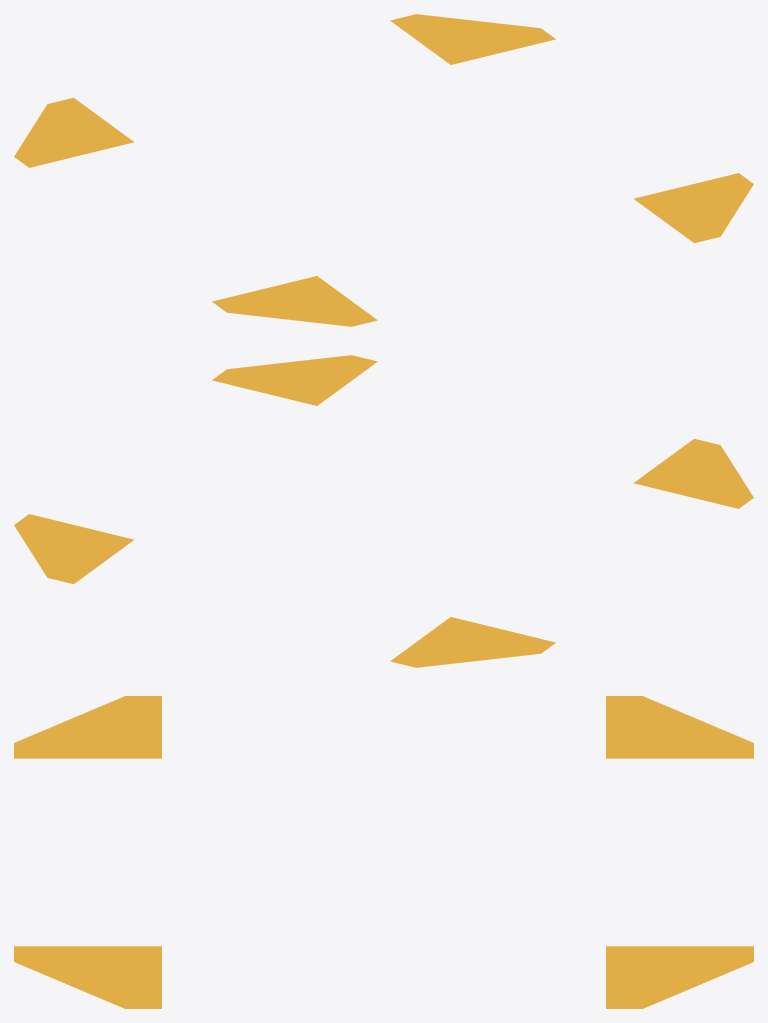
The model's file is kenney-prototype-indicator-square-e.glb.
3 renders of one model, top to bottom at view 1: azimuth 30°, elevation 25°; view 2: azimuth 150°, elevation 25°; view 3: azimuth 270°, elevation 25°, orthographic. The views are drawn at different scales.
Visible parts, largest first — view 1: indicator-square-e; view 2: indicator-square-e; view 3: indicator-square-e.
Part boxes in pixels (x1,y1,x2,y2): indicator-square-e: (14,14,753,326); indicator-square-e: (14,355,753,667); indicator-square-e: (14,696,753,1008).
Size of the model in its own units: 1 by 0 by 1.
Materials: 1 (1 with a texture image).
